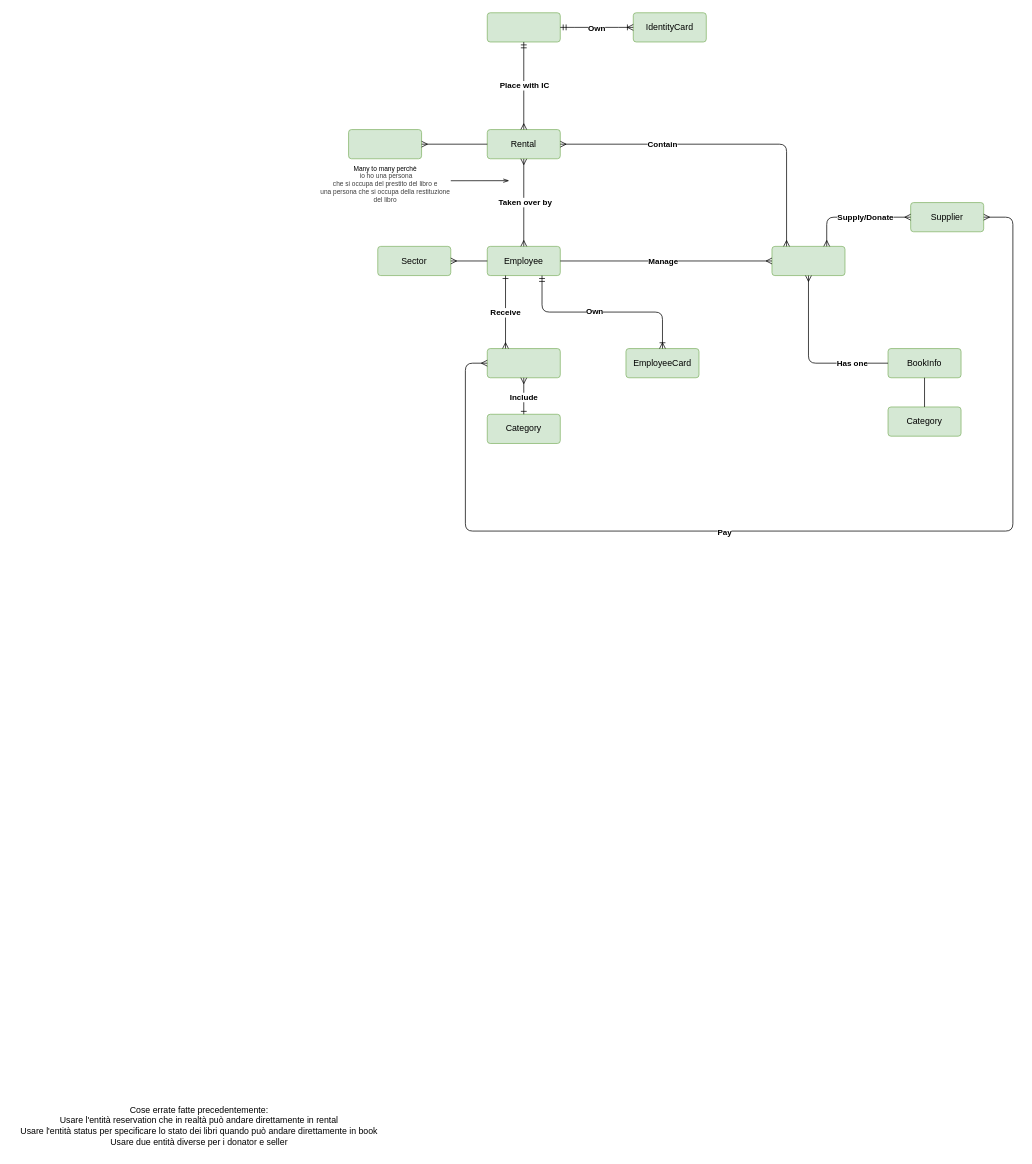
The diagram is 1032 pixels wide and 1164 high, and some of its shapes have lost their labels. Each missing label, with the centre of its shape:
Book: the point at 808,261
Payment: the point at 523,363
RentalDetail: the point at 385,144
User: the point at 523,27
